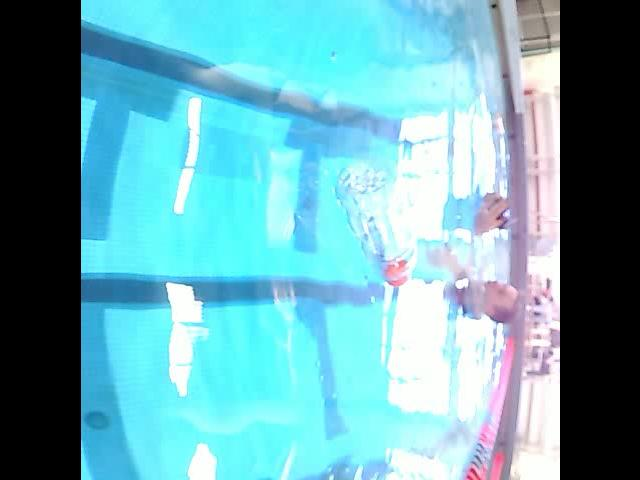Bottle: (331, 156, 413, 290)
